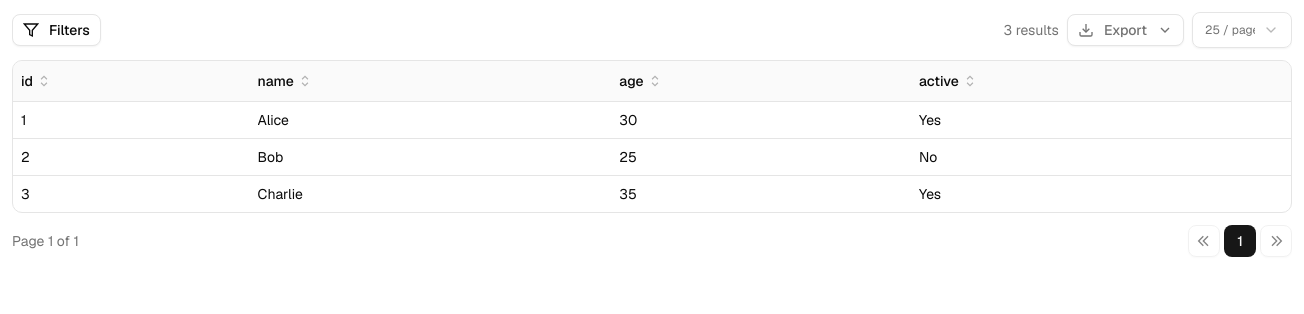
DataTable › Filtering › shows clear button when filters active
Click the button "Filters": (56, 30) [12, 14, 101, 46]
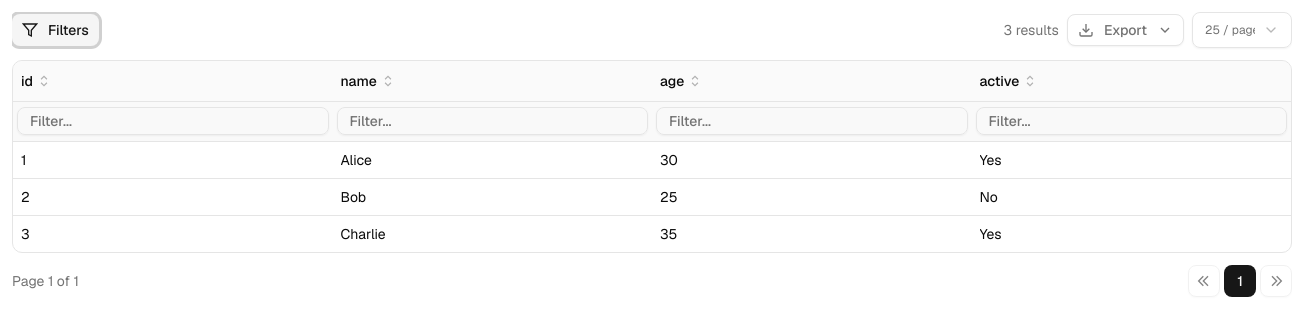
In the 1st field with placeholder "Filter...": (173, 121) [17, 107, 328, 135], type "1"
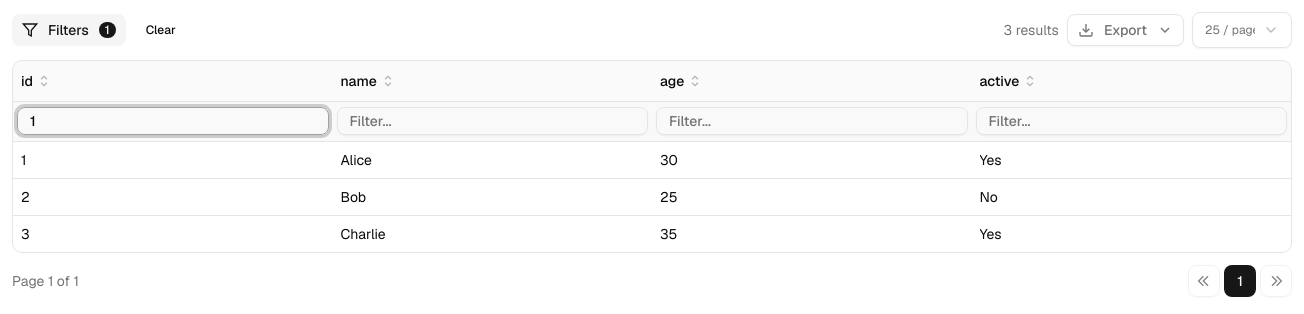
Now the button "Clear" is shown, box [134, 14, 188, 46]
